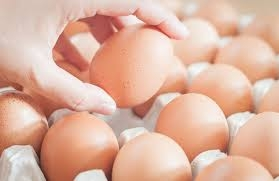kitchen_waste: (85, 18, 173, 110), (38, 107, 120, 181), (158, 90, 232, 163), (183, 63, 259, 127), (110, 124, 194, 181), (1, 84, 53, 167), (225, 108, 279, 175), (188, 150, 276, 181)
